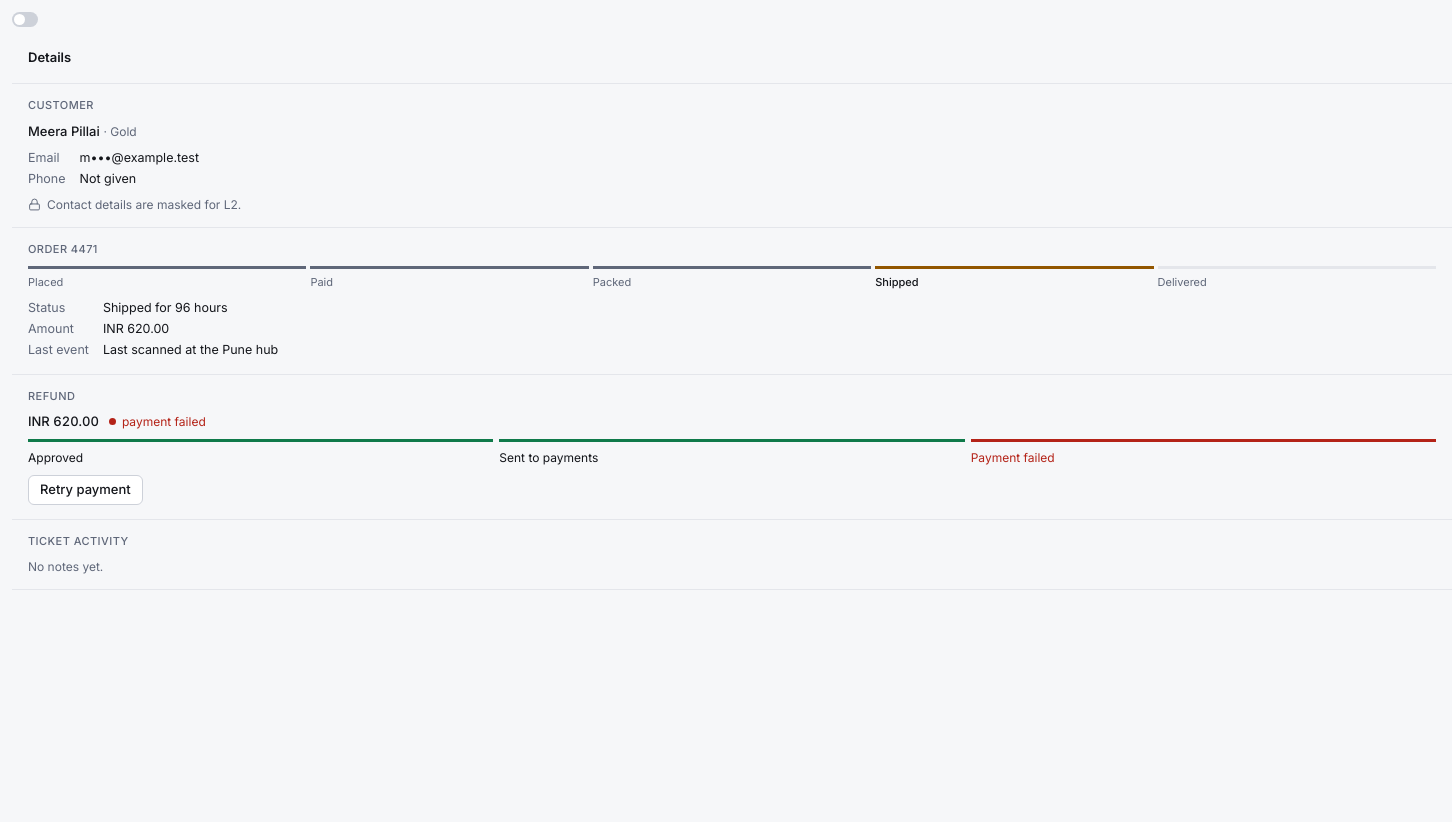
Test: retrying a failed payment › says what went wrong when the retry is refused
Click the button "Retry payment" at x=85, y=490, box [28,475,143,505]
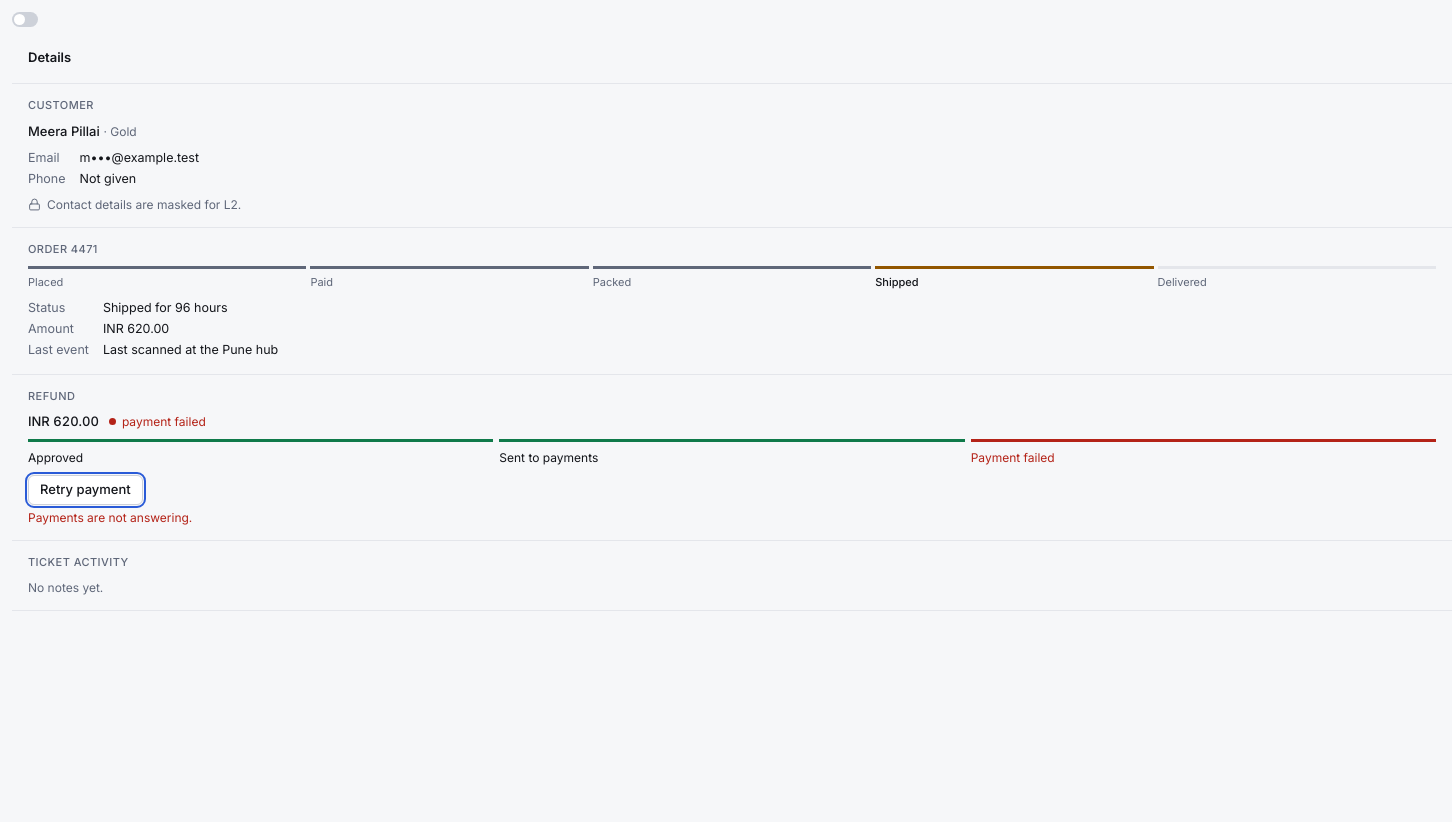
Expected: the message reads "Payments are not answering.", [28,510,192,525]
